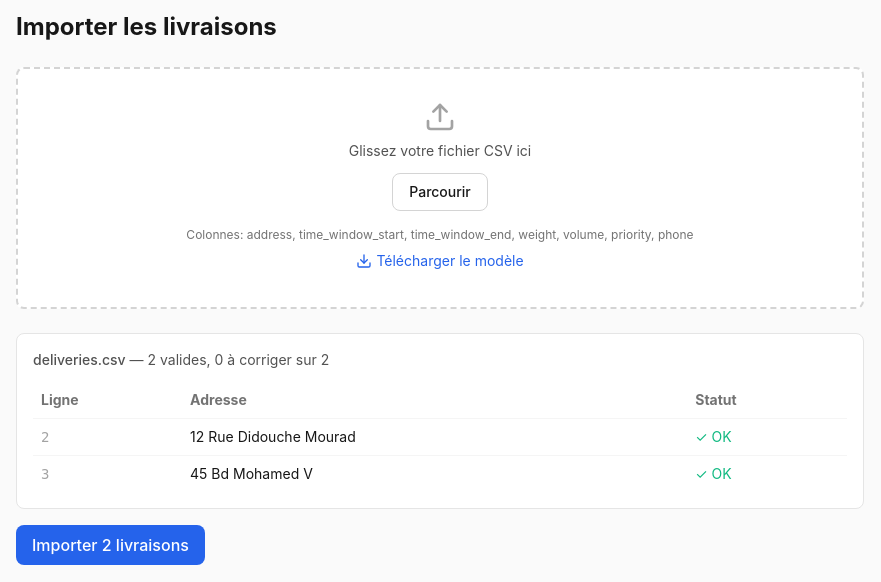
ImportPage › parses an uploaded CSV, previews it, and imports
Earlier steps of the test are not shown.
Check: the text "deliveries.csv — 2 valides, 0 à corriger sur 2" is shown, box x1=33 y1=351 x2=329 y2=368
Step 1. Click the button "Importer 2 livraisons" → coordinates (110, 545), box x1=16 y1=525 x2=205 y2=565
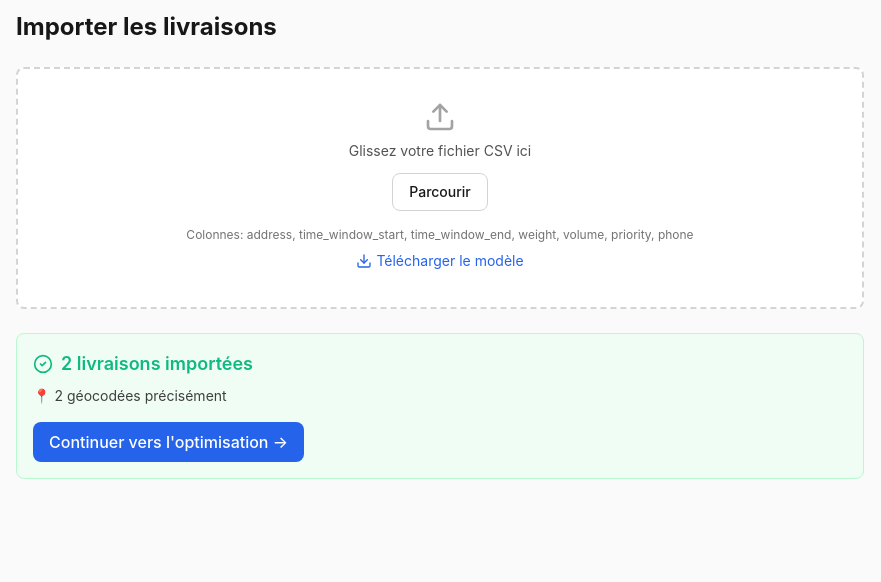
Check: the heading "2 livraisons importées" is shown, box x1=33 y1=353 x2=253 y2=374
